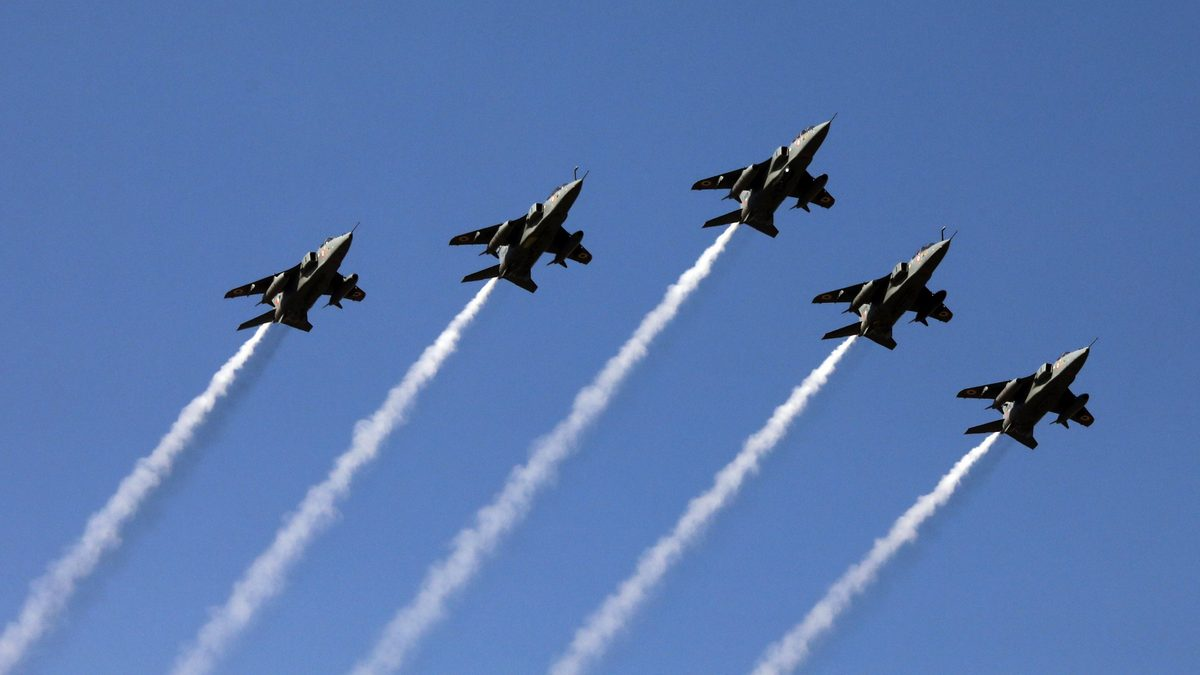plane: (817, 217, 960, 363), (690, 111, 843, 244), (445, 165, 599, 297), (946, 324, 1100, 453), (219, 222, 370, 335)
